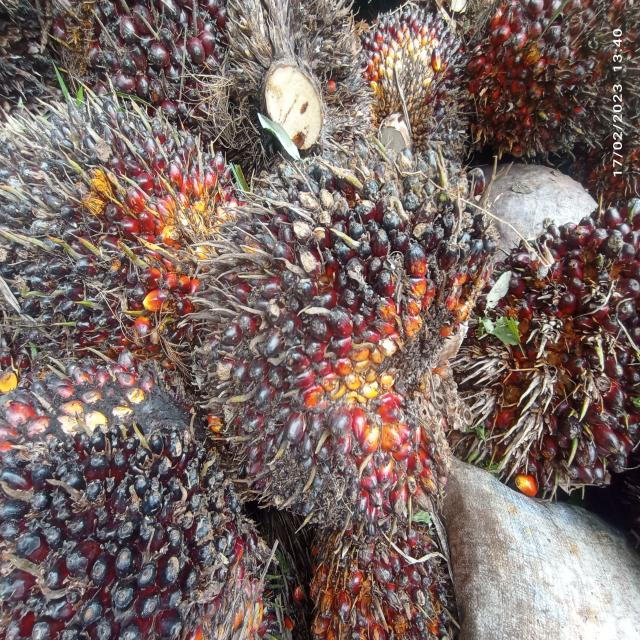fraksi 00: (0, 85, 257, 392), (3, 364, 282, 640)
fraksi 1: (181, 150, 495, 528), (489, 178, 640, 494)
